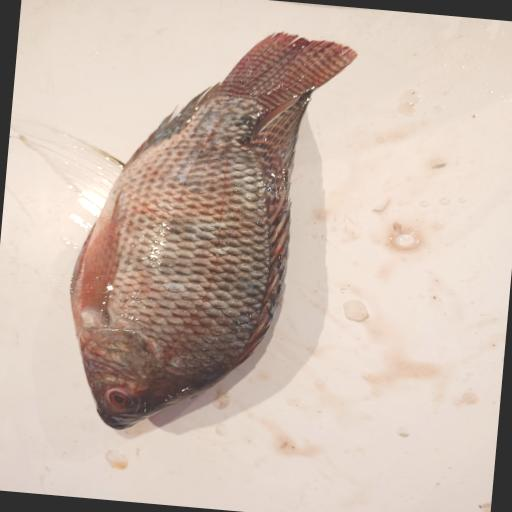Tilapia: (0, 9, 360, 449)
